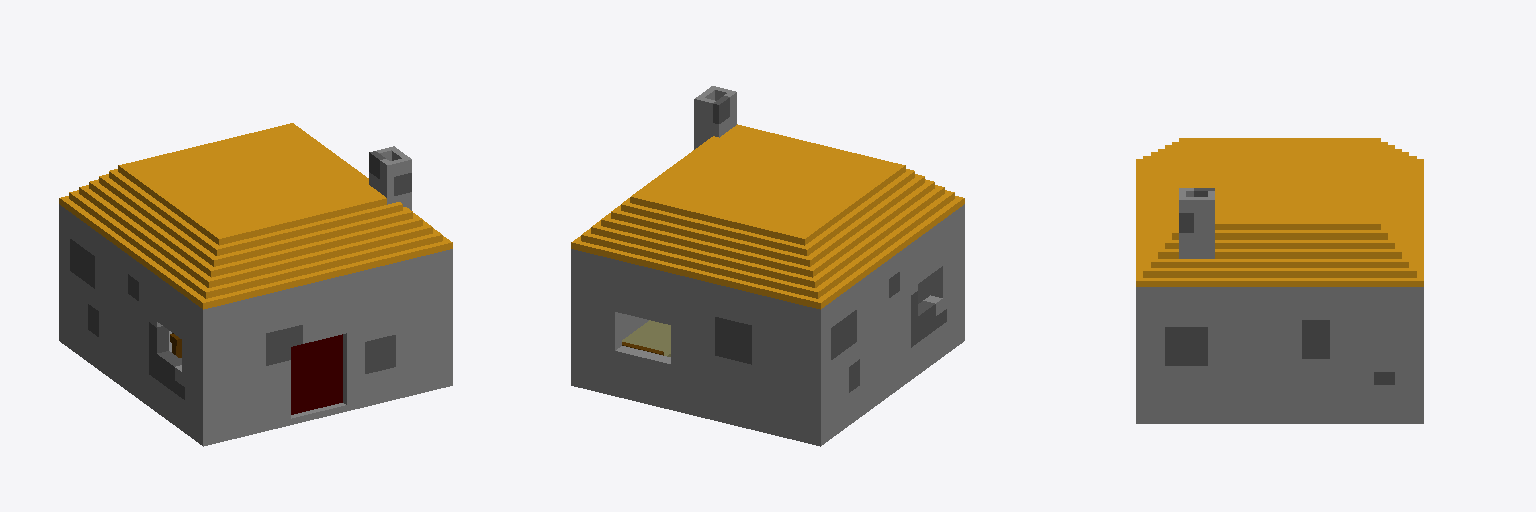
3 views of the same model, side by side, from view 1: azimuth 30°, elevation 25°; view 2: azimuth 150°, elevation 25°; view 3: azimuth 270°, elevation 25° (orthographic).
Visible parts, largest first — view 1: object 1; view 2: object 1; view 3: object 1.
Boxes of the visible parts, x1=… form: object 1: x1=59, y1=123, x2=452, y2=446; object 1: x1=571, y1=86, x2=964, y2=446; object 1: x1=1136, y1=138, x2=1423, y2=423.
Bounding box in the file's own units: 4 × 3.3 × 4.
1 materials, 1 textured.